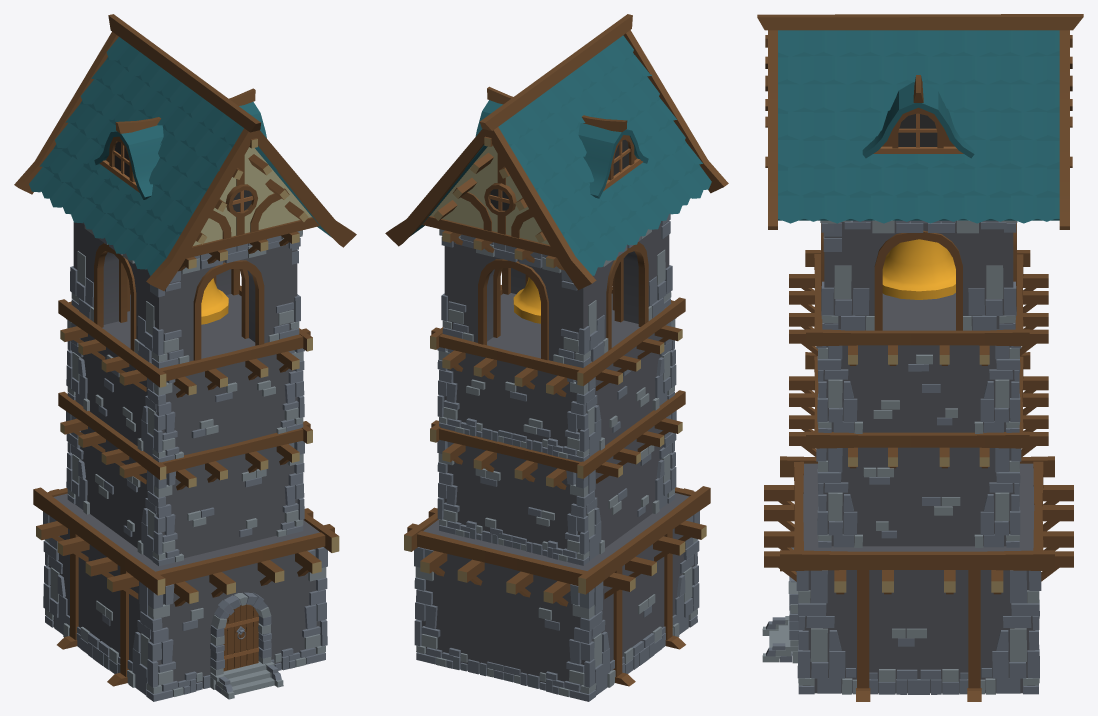
File: Bell_Tower.glb
3 views of the same model, side by side, from view 1: azimuth 30°, elevation 25°; view 2: azimuth 150°, elevation 25°; view 3: azimuth 270°, elevation 25° (orthographic). The views are drawn at different scales.
Parts seen in each view (by area): view 1: Bell_Tower; view 2: Bell_Tower; view 3: Bell_Tower.
Part boxes in pixels (<box>): Bell_Tower: <box>14,14,356,701</box>; Bell_Tower: <box>385,14,728,701</box>; Bell_Tower: <box>757,14,1083,701</box>.
Size of the model in its own units: 1.94 by 4.76 by 2.23.
